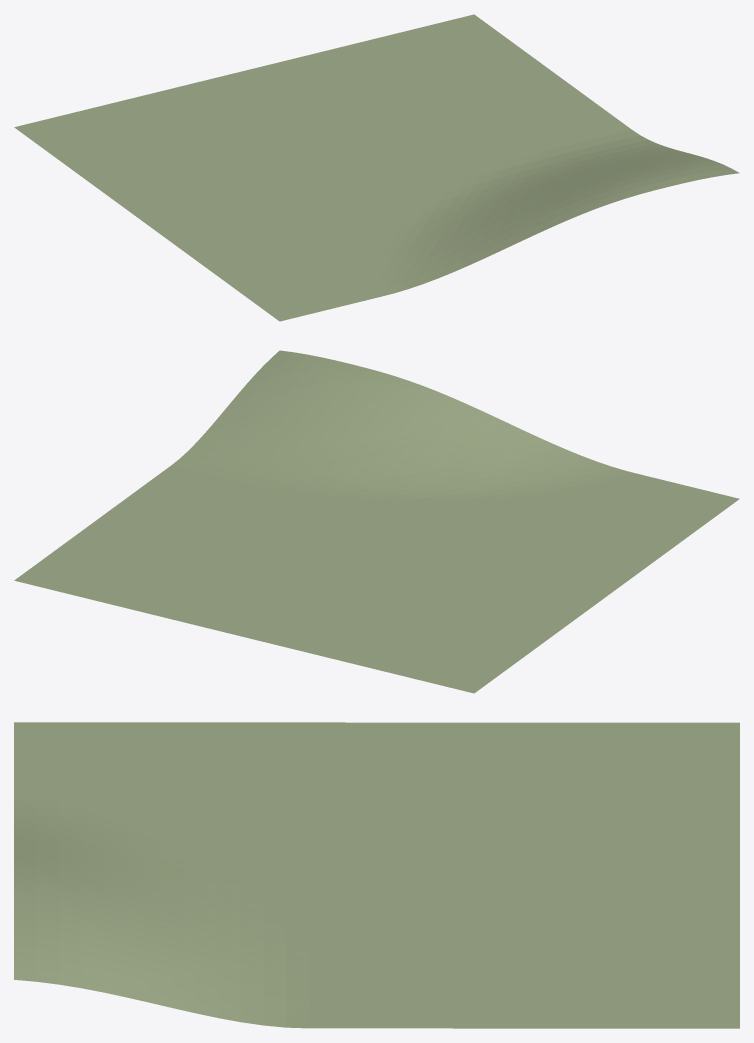
File: desert-6-21.glb
The picture shows the model from 3 angles, top to bottom: view 1: azimuth 30°, elevation 25°; view 2: azimuth 150°, elevation 25°; view 3: azimuth 270°, elevation 25°; orthographic projection. The views are drawn at different scales.
Parts seen in each view (by area): view 1: desert-6-21; view 2: desert-6-21; view 3: desert-6-21.
Boxes of the visible parts, x1,y1,x2,y2 form: desert-6-21: (14, 14, 739, 321); desert-6-21: (14, 350, 739, 693); desert-6-21: (14, 722, 739, 1028).
Size of the model in its own units: 512 by 42.57 by 512.
